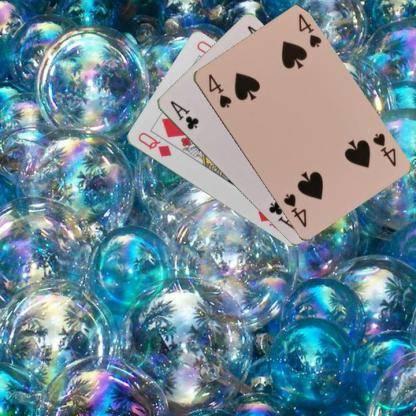4s: (369, 130, 398, 168), (205, 71, 232, 109)
Ac: (167, 98, 200, 131)
Qd: (134, 130, 172, 158)
